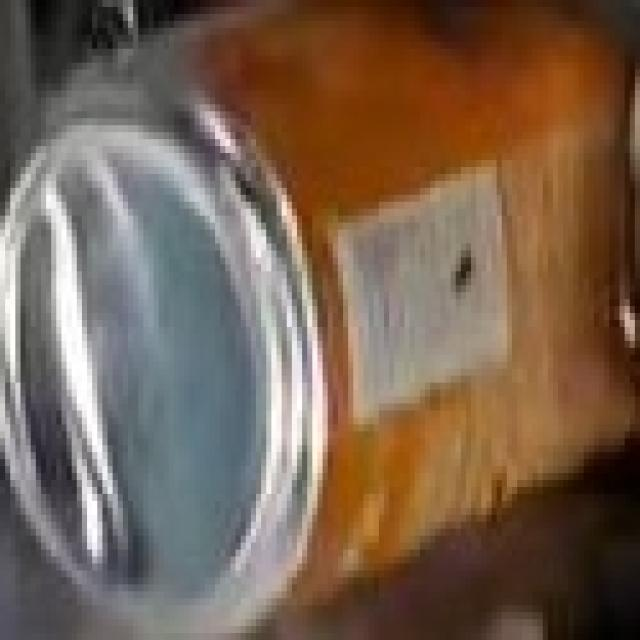can: (0, 0, 640, 629)
